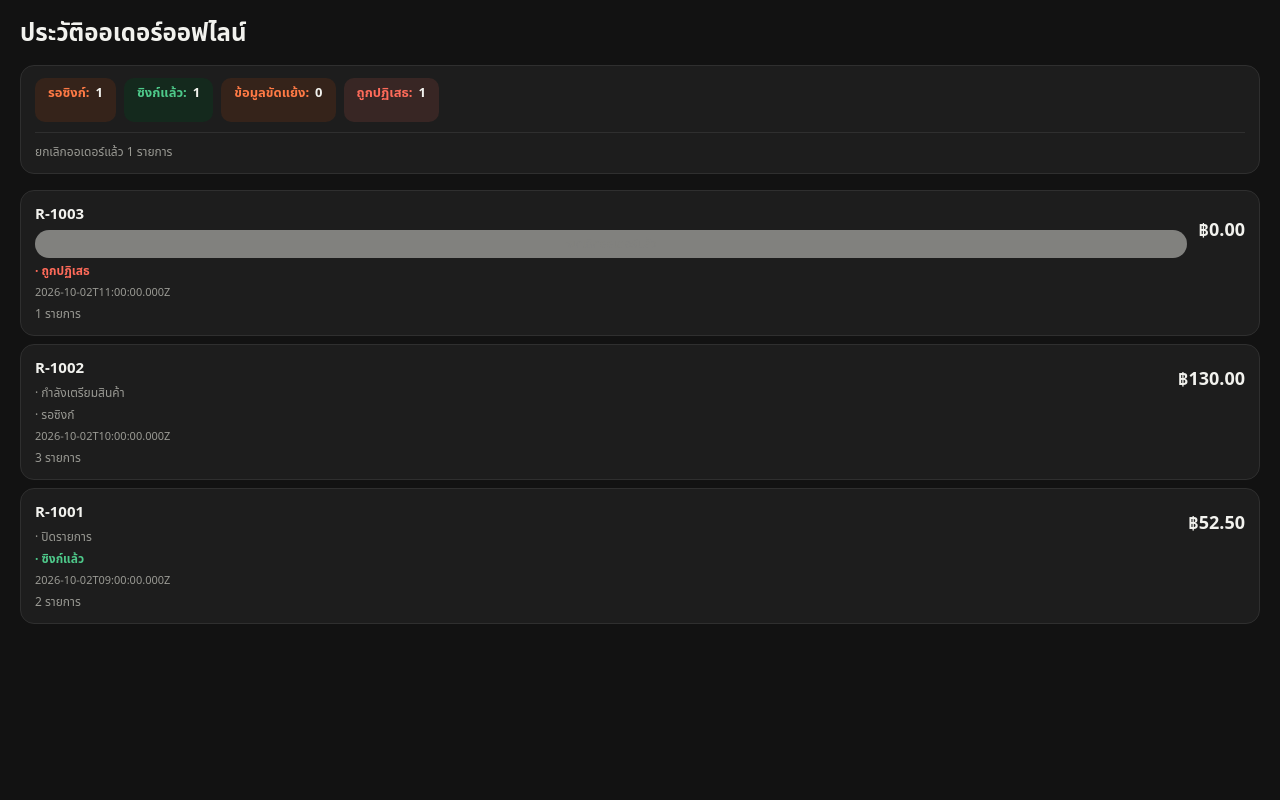
Test: OfflineOrdersView — the sync chips filter the list › says so when a filter matches nothing, and does NOT offer to leave
The image size is (1280, 800).
What coordinates should you click on to do the following:
click the button "ข้อมูลขัดแย้ง: 0"
I would click on:
 (278, 100)
Its box is [221, 78, 336, 122].
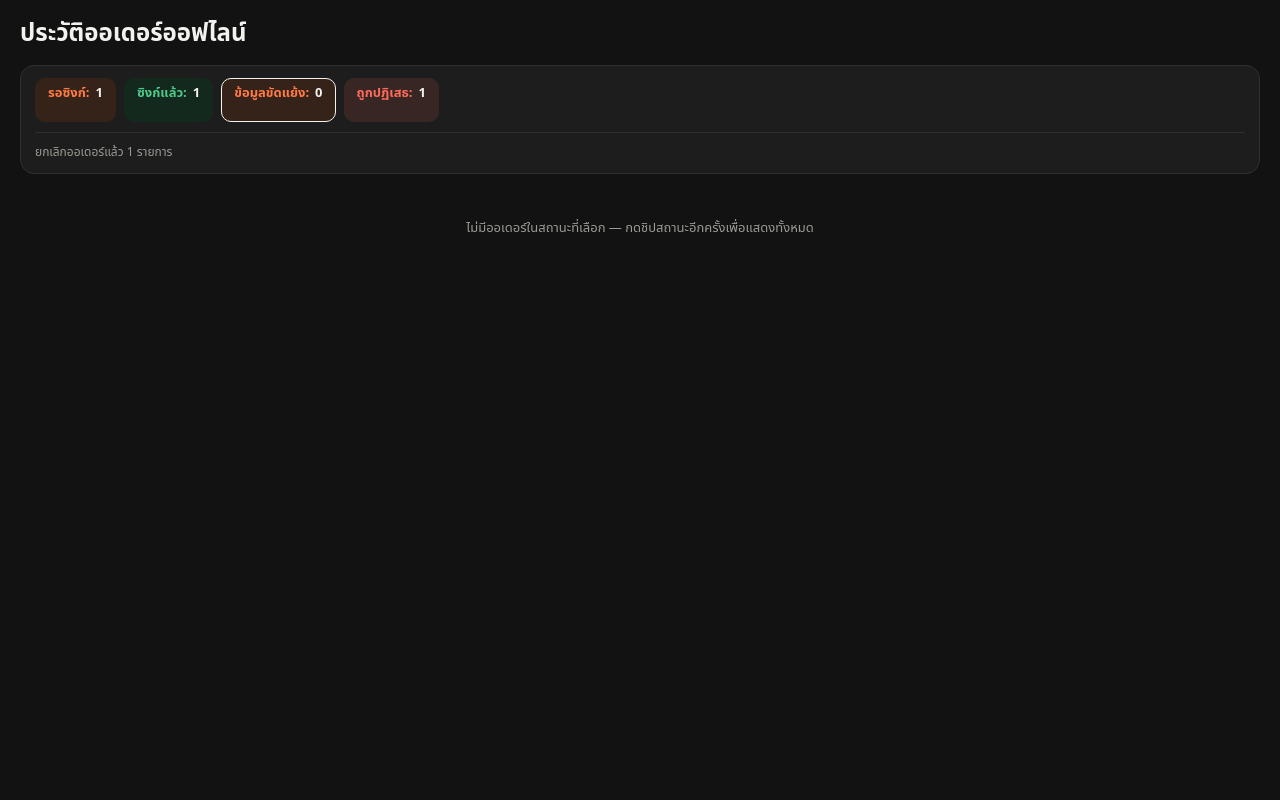
Expected: no list items with test id "offline-order-row" are shown
Expected: the text "ไม่มีออเดอร์ในสถานะที่เลือก" is shown, [466, 218, 814, 238]
